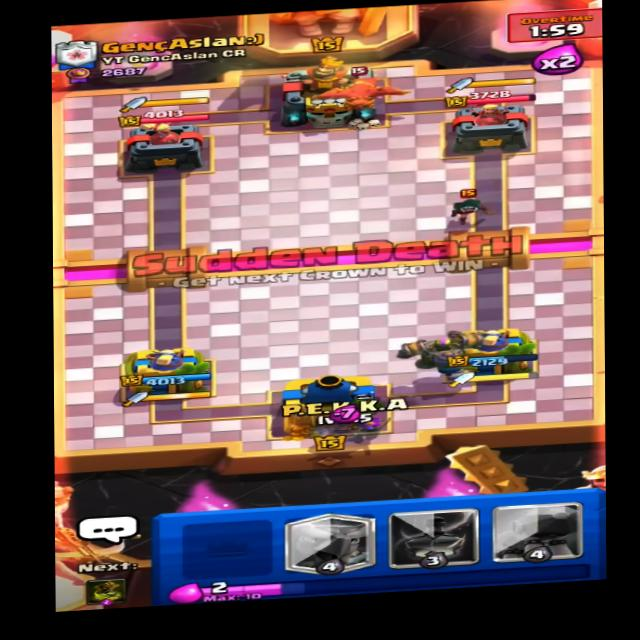bandit: (439, 186, 491, 226)
phoenix: (303, 64, 414, 120)
